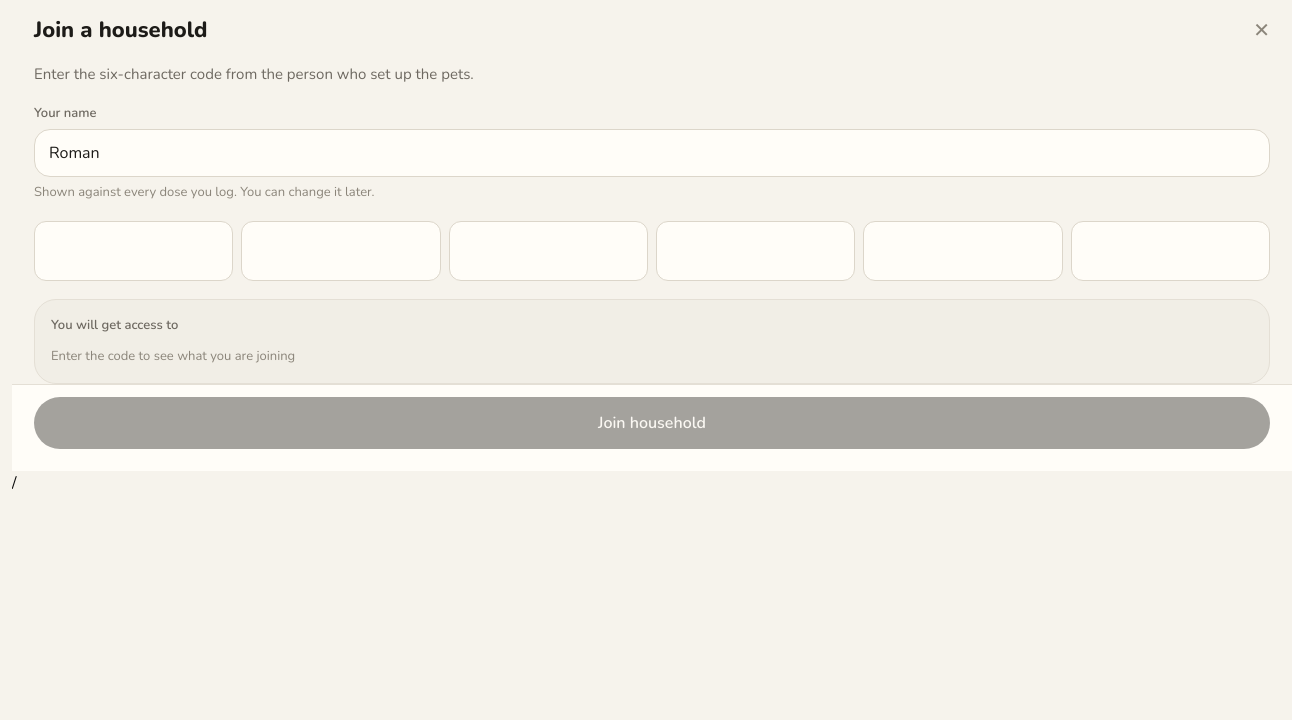
Test: JoinHouseholdPage › refuses a code that was already used, with the used-code message, stays on the screen, and does not join locally
This screenshot has width=1292, height=720.
In the field named "Code character 1": [134, 250] box [34,220,233,280], type "ABCDEF"
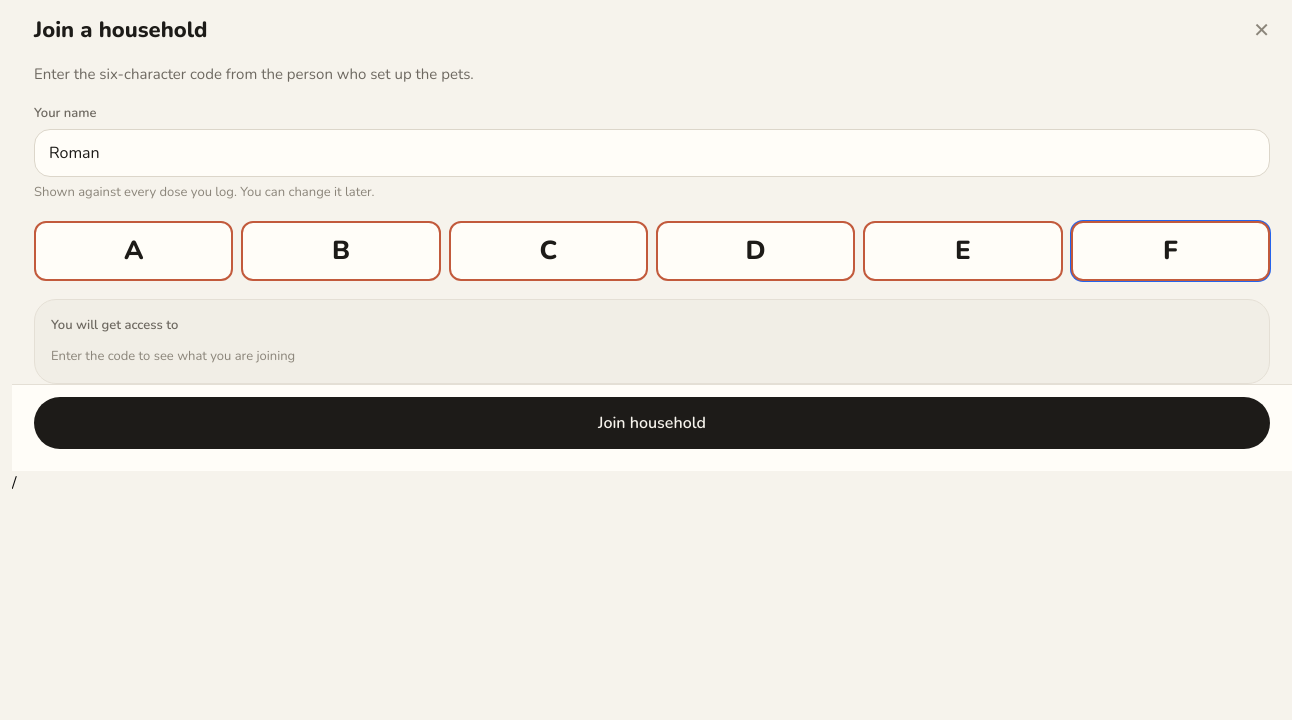
Click the button "Join household": [652, 422] box [34,396,1270,448]
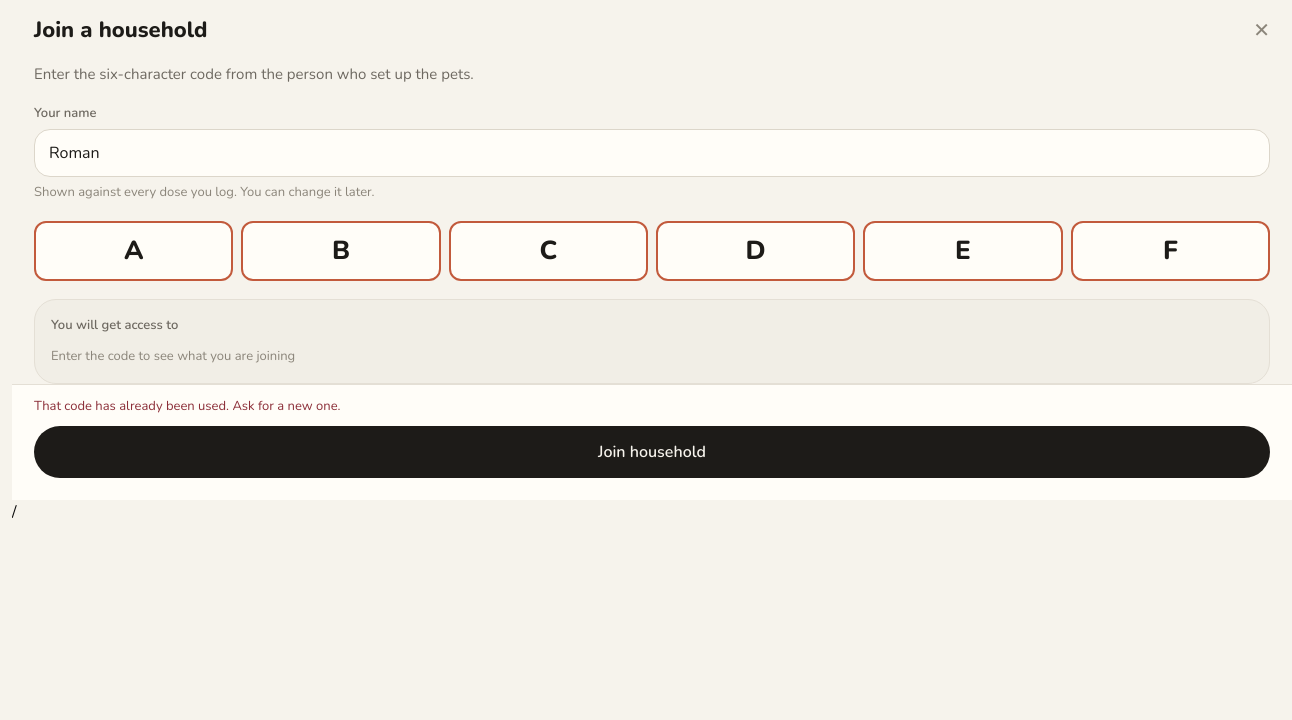
Expected: the text with test id "pathname" reads "/", [12,501,16,523]
Result: the message reads "That code has already been used. Ask for a new one." at [34,396,341,414]
